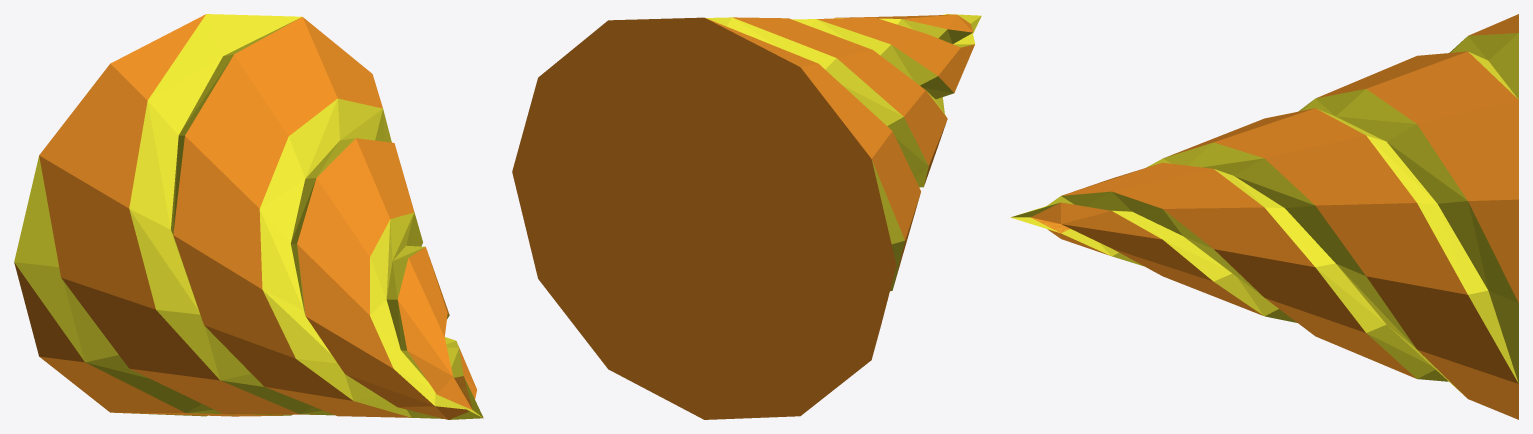
The model's file is Missile.fbx.
3 views of the same model, side by side, from view 1: azimuth 30°, elevation 25°; view 2: azimuth 150°, elevation 25°; view 3: azimuth 270°, elevation 25° (orthographic). The views are drawn at different scales.
Parts seen in each view (by area): view 1: Hand; view 2: Hand; view 3: Hand.
Part boxes in pixels (bbox=[...]): Hand: bbox=[14, 14, 483, 419]; Hand: bbox=[512, 14, 981, 419]; Hand: bbox=[1010, 14, 1518, 419].
Size of the model in its own units: 0.1767 by 0.1767 by 0.2208.
